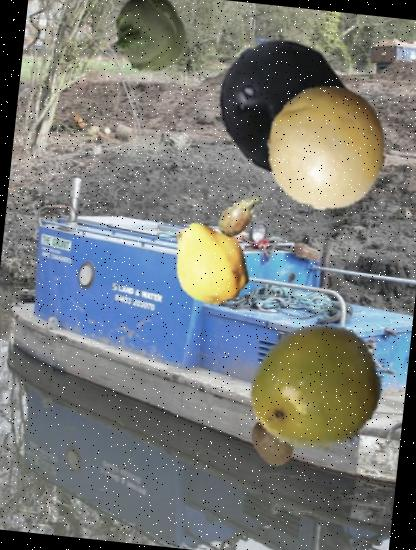Cactus: (211, 186, 270, 245)
Grape: (208, 30, 364, 186)
Grapefruit: (258, 80, 395, 217)
Kiwi: (244, 412, 302, 469)
Kohlrabi: (104, 0, 192, 77)
Maracuja: (246, 315, 394, 463)
Quince: (160, 216, 260, 314)
